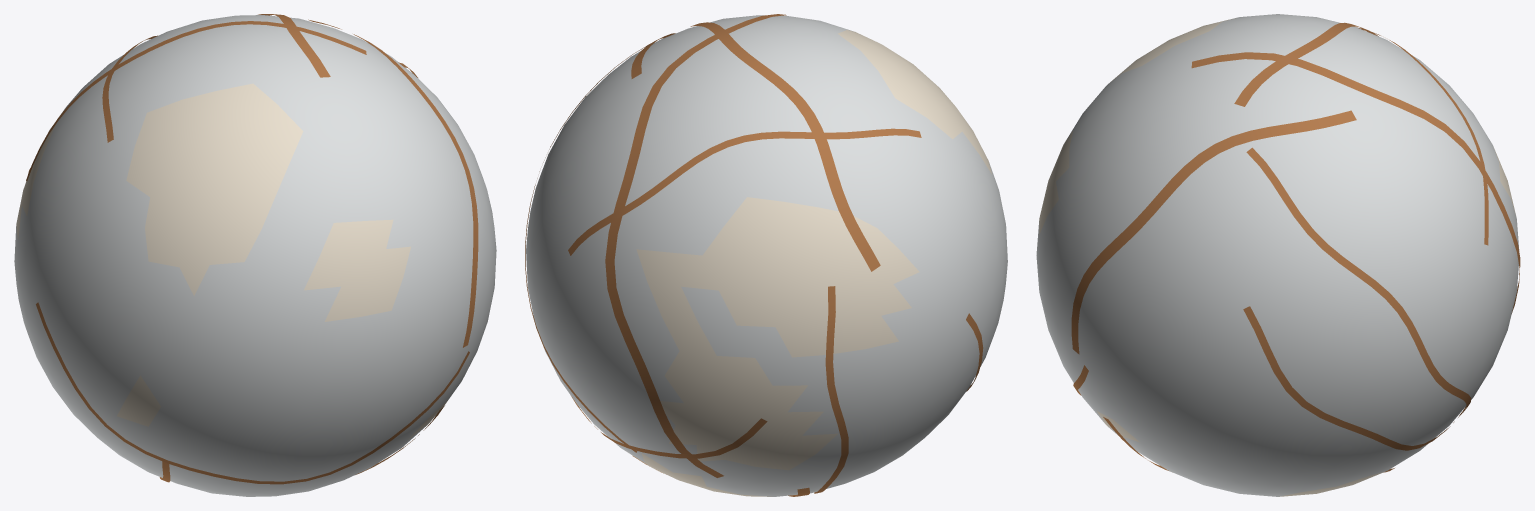
The model's file is icy_moon.glb.
3 renders of one model, left to right at view 1: azimuth 30°, elevation 25°; view 2: azimuth 150°, elevation 25°; view 3: azimuth 270°, elevation 25°, orthographic.
Visible parts, largest first — view 1: body; view 2: body; view 3: body.
Part boxes in pixels (left/top/right/bottom): body: left=14, top=14, right=496, bottom=496; body: left=525, top=14, right=1007, bottom=496; body: left=1036, top=14, right=1520, bottom=496.
Size of the model in its own units: 201 by 200 by 200.
